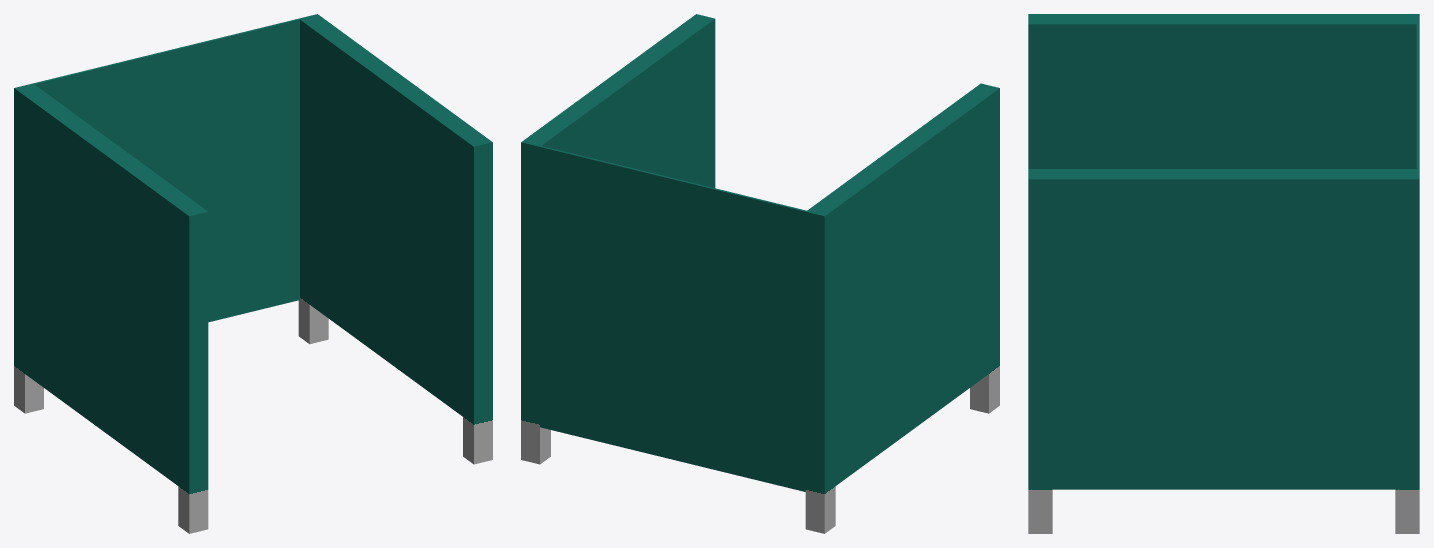
File: Toilet.glb
3 renders of one model, left to right at view 1: azimuth 30°, elevation 25°; view 2: azimuth 150°, elevation 25°; view 3: azimuth 270°, elevation 25°, orthographic. The views are drawn at different scales.
Visible parts, largest first — view 1: pl0; view 2: pl0; view 3: pl0.
Boxes of the visible parts, box(x1,y1,x2,y2) form: pl0: box(14, 14, 492, 533); pl0: box(521, 14, 999, 533); pl0: box(1028, 14, 1419, 533).
Bounding box in the file's own units: 12.8 × 12.8 × 12.8.
1 material, 1 textured.
